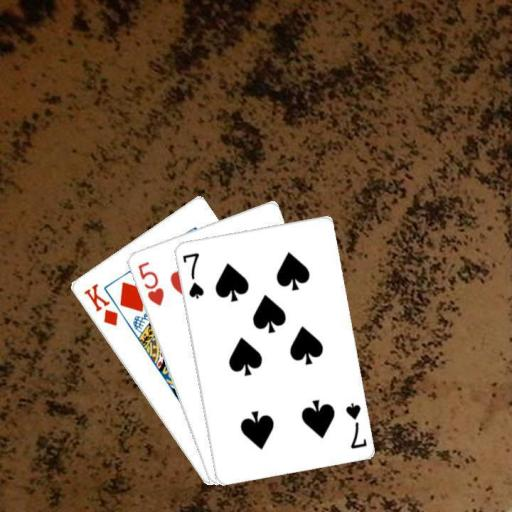card-corner: (80, 280, 120, 328), (134, 258, 165, 307), (178, 249, 205, 300), (342, 399, 368, 450)
